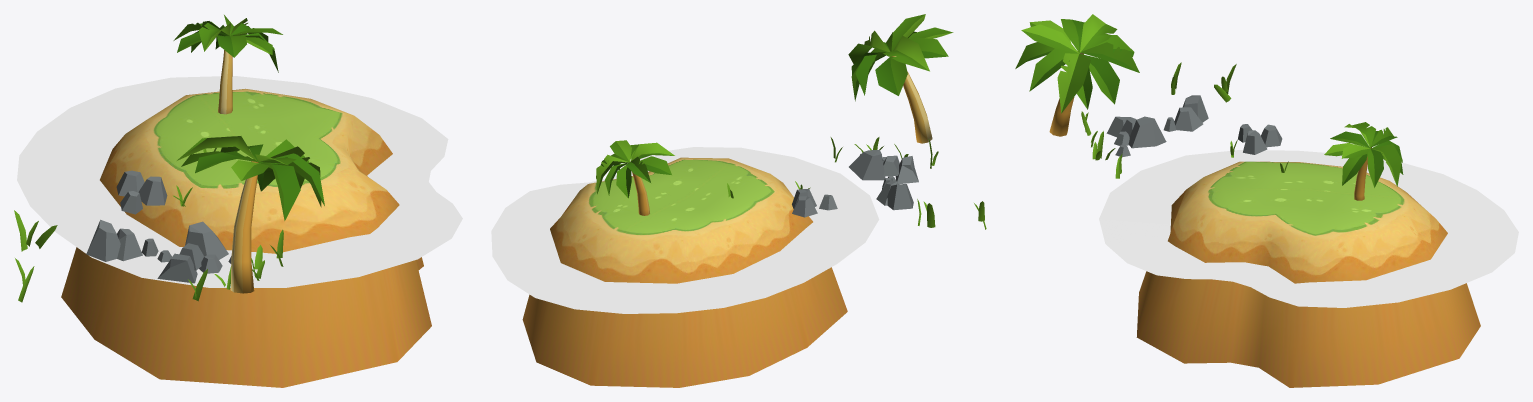
The model's file is Island_Small_02.fbx.
3 renders of one model, left to right at view 1: azimuth 30°, elevation 25°; view 2: azimuth 150°, elevation 25°; view 3: azimuth 270°, elevation 25°, orthographic. The views are drawn at different scales.
Visible parts, largest first — view 1: Island_Color_10, Wave_sleeve, Color_09 (1), Color_09, Color_08, Color_02, Color_07, Color_04, Color_05; view 2: Island_Color_10, Wave_sleeve, Color_09 (1), Color_09, Color_08, Color_02, Color_07; view 3: Island_Color_10, Wave_sleeve, Color_09 (1), Color_09, Color_08, Color_02, Color_07, Color_05, Color_04.
Boxes of the visible parts, left/top/right/bottom form: Island_Color_10: left=61, top=88, right=431, bottom=387; Wave_sleeve: left=17, top=76, right=462, bottom=287; Color_09 (1): left=177, top=136, right=324, bottom=293; Color_09: left=173, top=15, right=282, bottom=114; Color_08: left=157, top=221, right=231, bottom=283; Color_02: left=86, top=219, right=171, bottom=262; Color_07: left=116, top=170, right=167, bottom=214; Color_04: left=14, top=210, right=57, bottom=302; Color_05: left=188, top=229, right=283, bottom=301; Island_Color_10: left=522, top=157, right=847, bottom=387; Wave_sleeve: left=491, top=147, right=879, bottom=313; Color_09 (1): left=848, top=14, right=953, bottom=143; Color_09: left=596, top=140, right=674, bottom=215; Color_08: left=849, top=150, right=918, bottom=184; Color_02: left=876, top=176, right=913, bottom=210; Color_07: left=792, top=189, right=837, bottom=217; Island_Color_10: left=1136, top=161, right=1480, bottom=387; Wave_sleeve: left=1099, top=150, right=1518, bottom=307; Color_09 (1): left=1015, top=14, right=1139, bottom=136; Color_09: left=1324, top=122, right=1403, bottom=200; Color_08: left=1106, top=116, right=1166, bottom=157; Color_02: left=1163, top=95, right=1208, bottom=131; Color_07: left=1238, top=124, right=1282, bottom=154; Color_05: left=1081, top=111, right=1122, bottom=178; Color_04: left=1171, top=62, right=1236, bottom=102.
Bounding box in the file's own units: 86.55 × 49.22 × 92.48.
